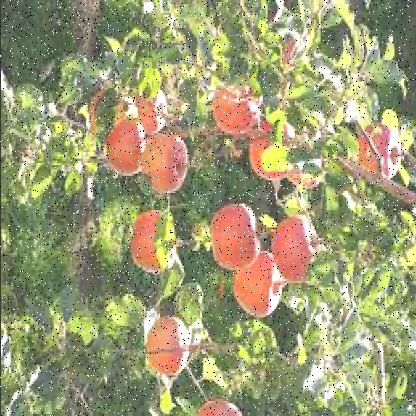apple: (230, 249, 284, 322), (273, 210, 321, 281), (212, 204, 258, 270), (130, 206, 174, 270), (250, 116, 294, 180), (209, 73, 255, 133), (145, 318, 191, 376), (144, 133, 188, 193), (106, 113, 146, 174), (360, 116, 400, 176), (135, 81, 167, 131)
